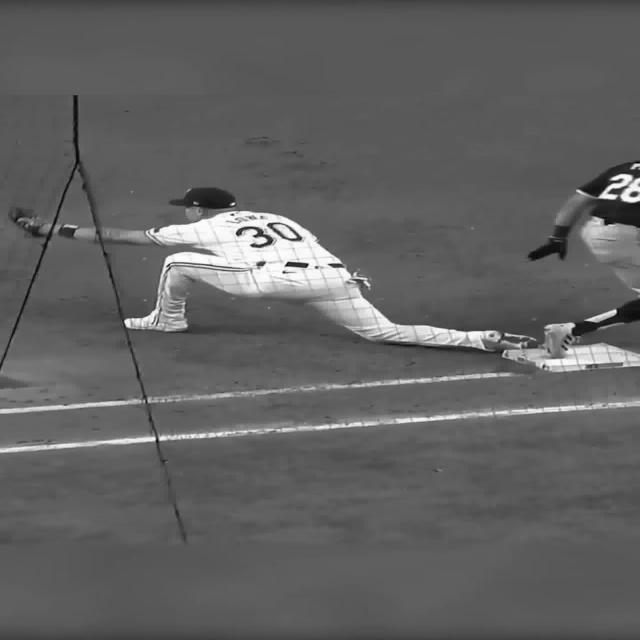base: (505, 345, 638, 373)
baseball_glove: (0, 193, 52, 240)
shoe: (542, 322, 578, 358), (479, 330, 537, 352), (123, 316, 188, 332)
